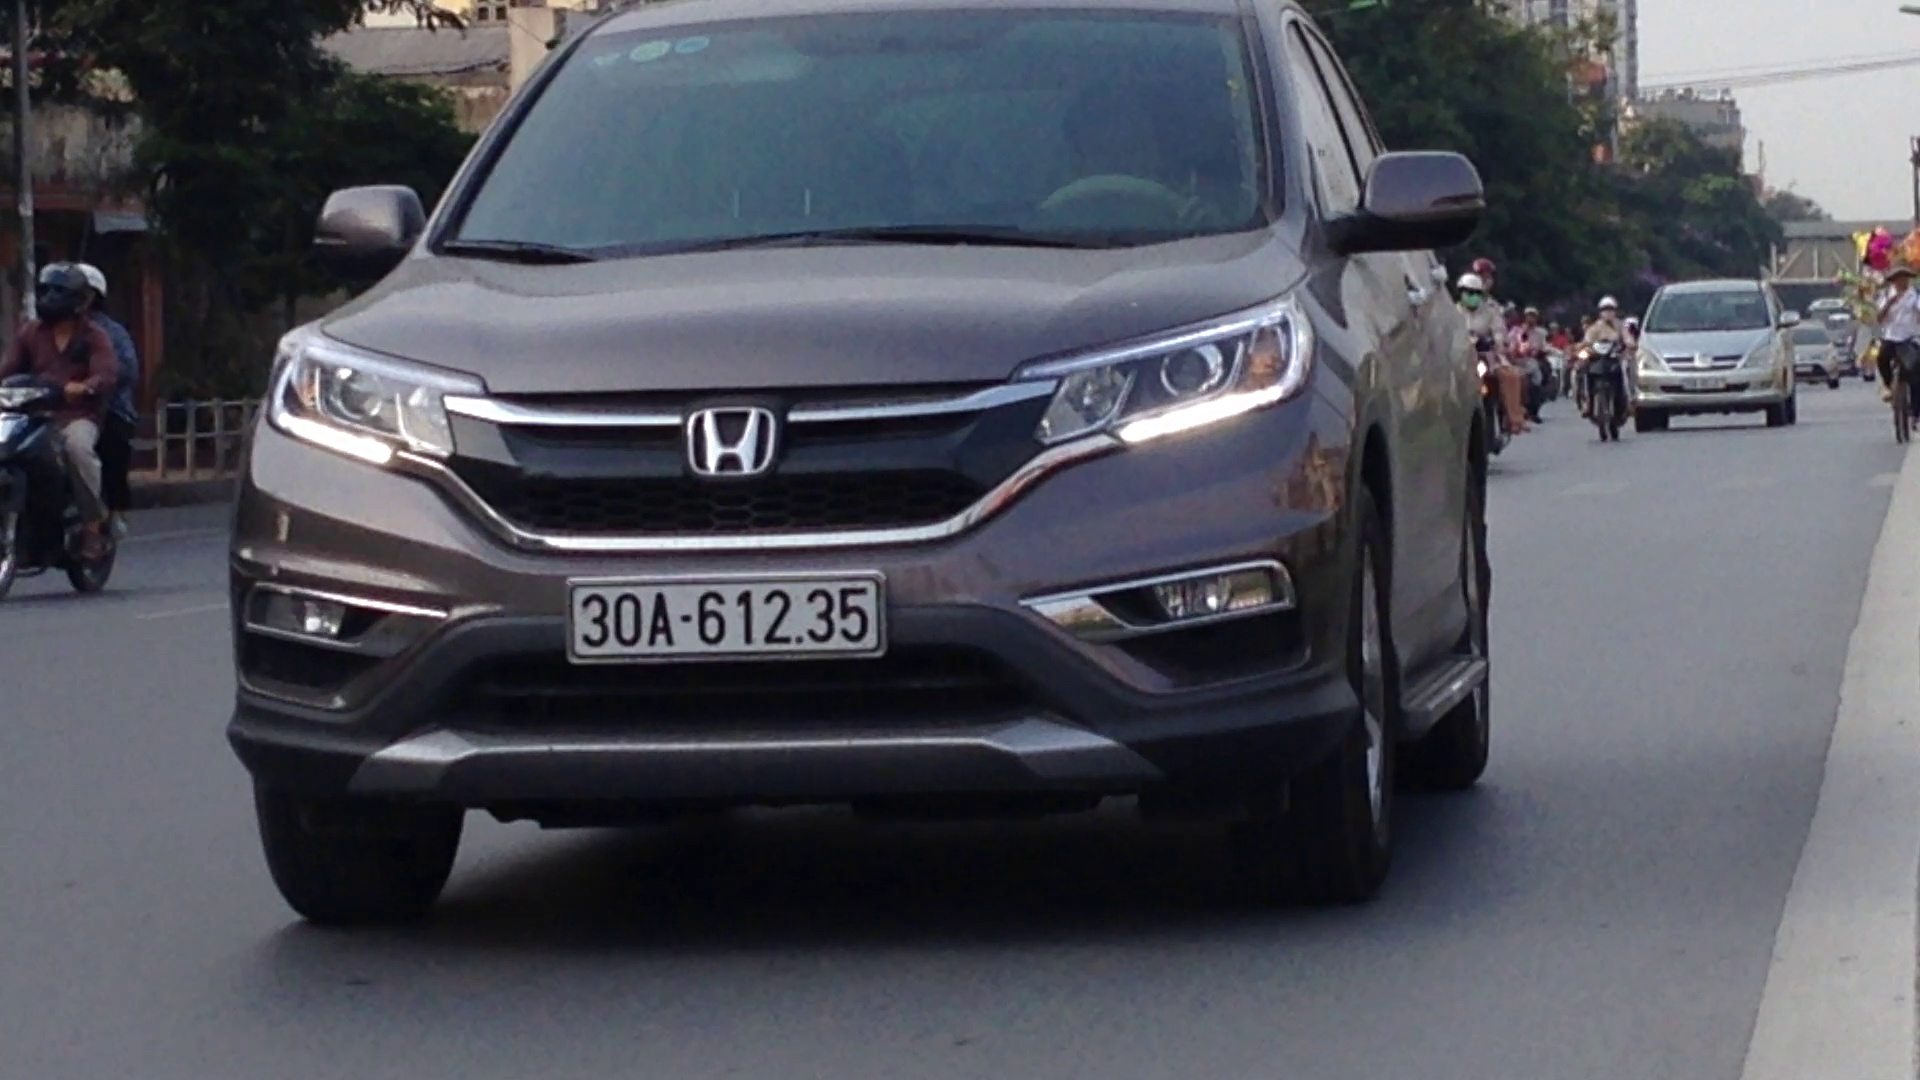vehicle-plate: (561, 569, 891, 664)
